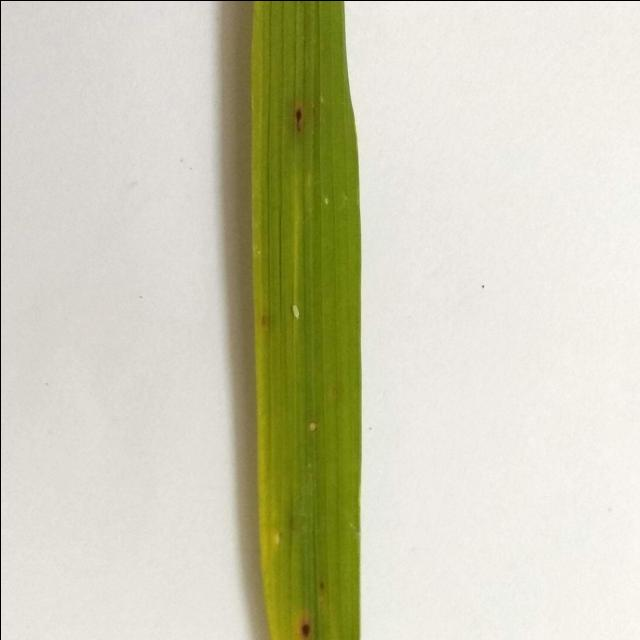Brown spot: (286, 98, 312, 138), (296, 605, 321, 640), (314, 567, 334, 590)
